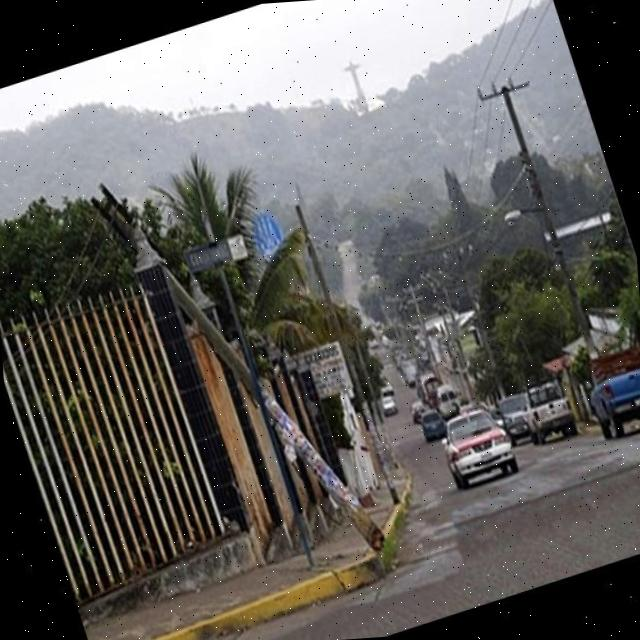Broken Pole: (89, 181, 383, 548)
